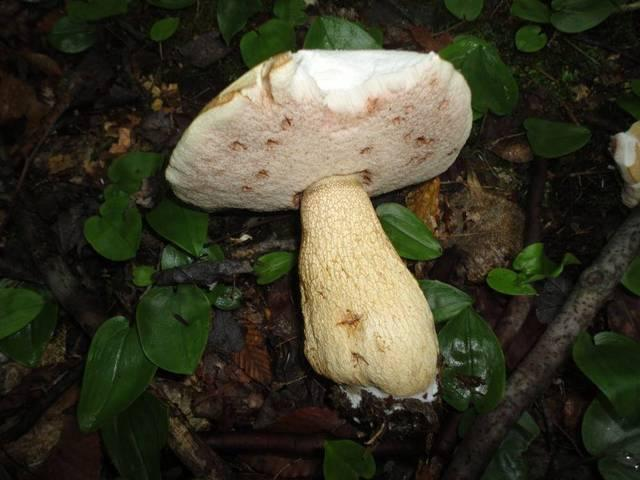poisonous_mushroom: (163, 46, 474, 408)
